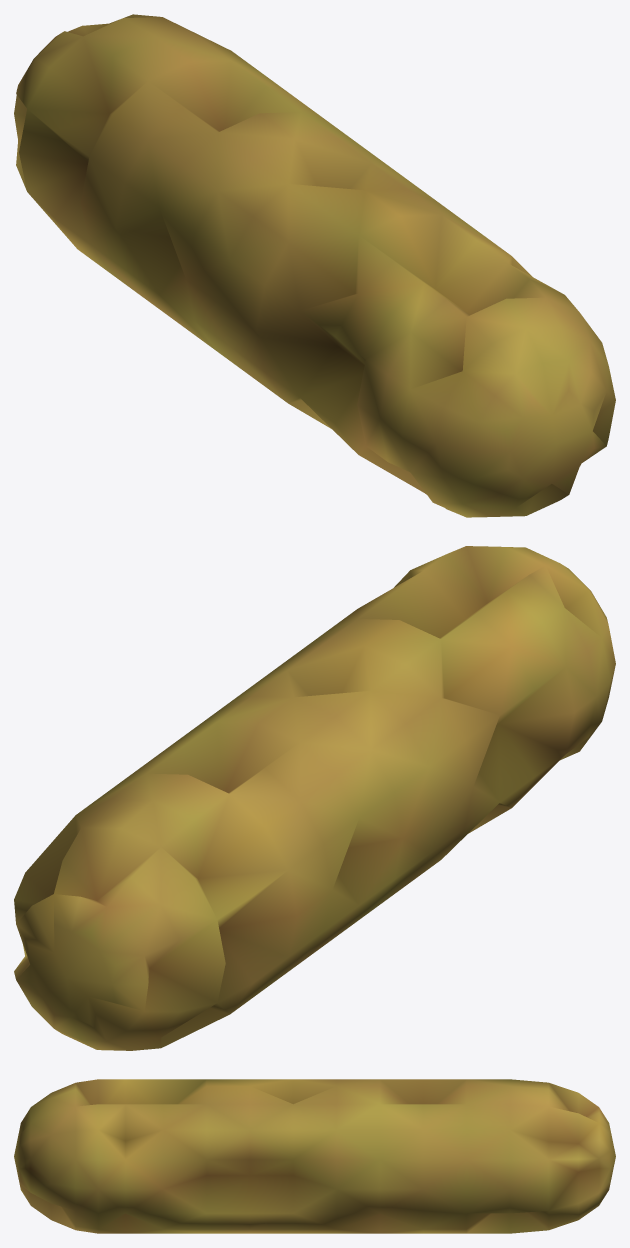
File: microscopic-bacteria-bumpy-rod-bacterium_v1.glb
3 views of the same model, one above another, from view 1: azimuth 30°, elevation 25°; view 2: azimuth 150°, elevation 25°; view 3: azimuth 270°, elevation 25° (orthographic). The views are drawn at different scales.
Parts seen in each view (by area): view 1: Bumpy Rod Bacterium_v1; view 2: Bumpy Rod Bacterium_v1; view 3: Bumpy Rod Bacterium_v1.
Boxes of the visible parts, box(x1,y1,x2,y2) form: Bumpy Rod Bacterium_v1: box(14, 14, 615, 517); Bumpy Rod Bacterium_v1: box(14, 546, 615, 1050); Bumpy Rod Bacterium_v1: box(14, 1079, 615, 1233).
Bounding box in the file's own units: 0.103 × 0.103 × 0.4.
